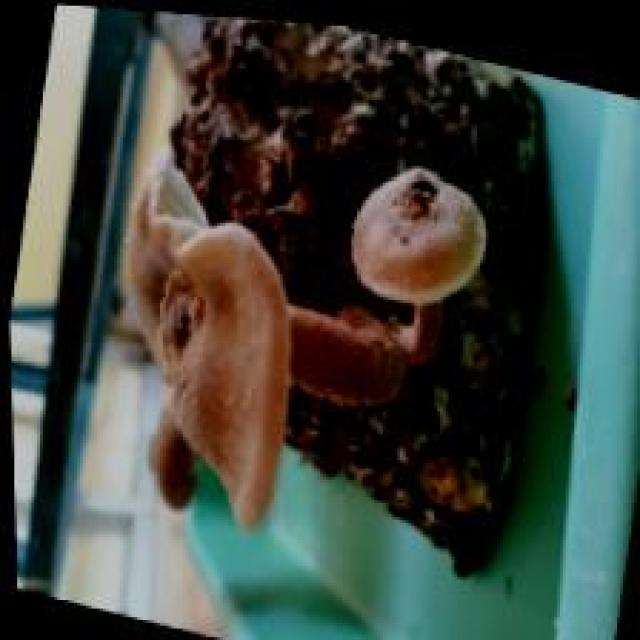chanterelle: (120, 17, 554, 574)
